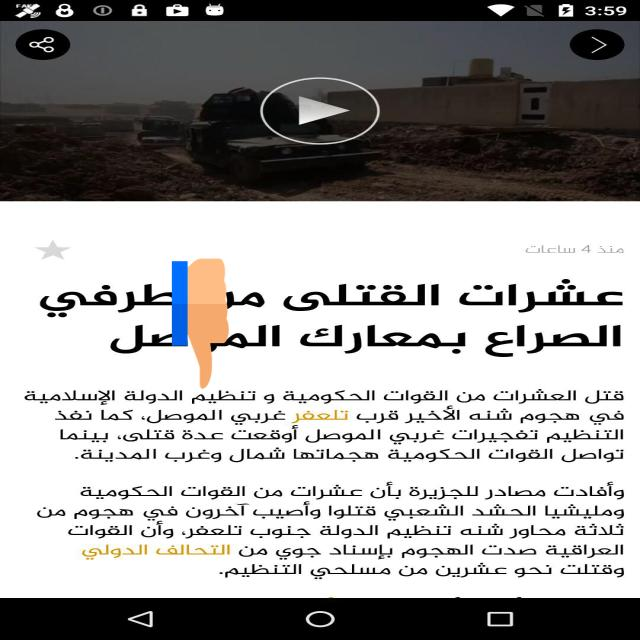obstruction: (172, 255, 229, 392)
